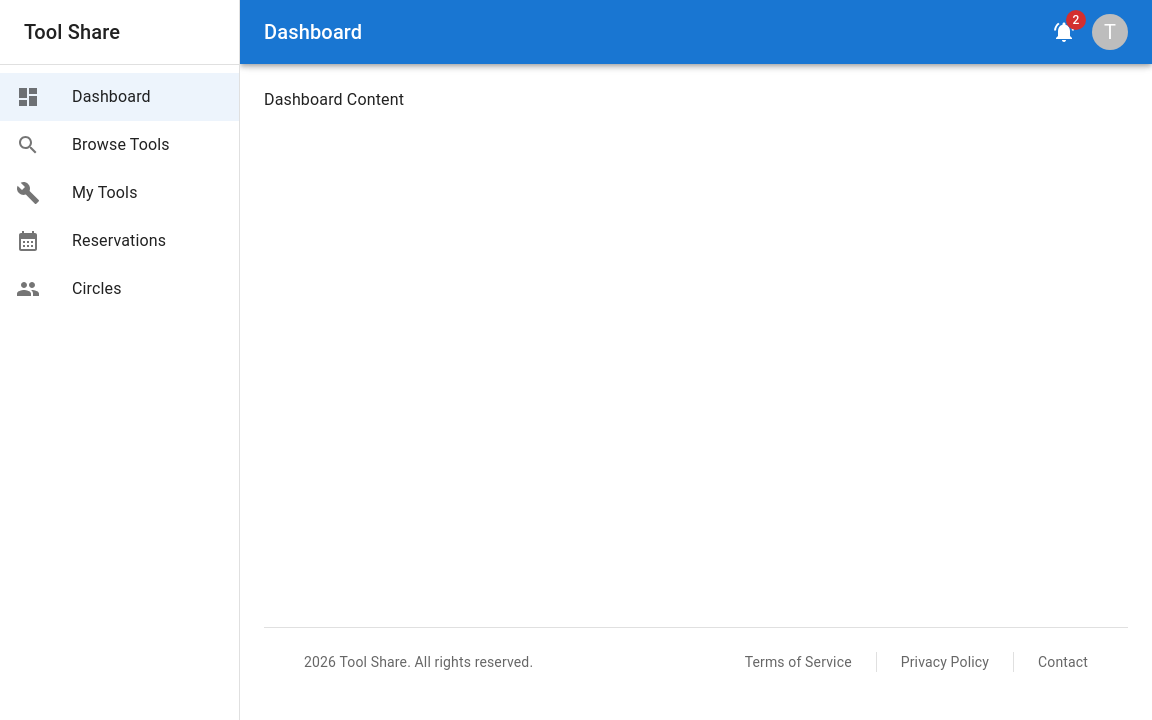
Test: Layout › routing › should navigate to browse when clicking navigation item
This screenshot has width=1152, height=720.
Step 1. Click the button "Browse Tools" → (93, 145), box [16,133,170,157]
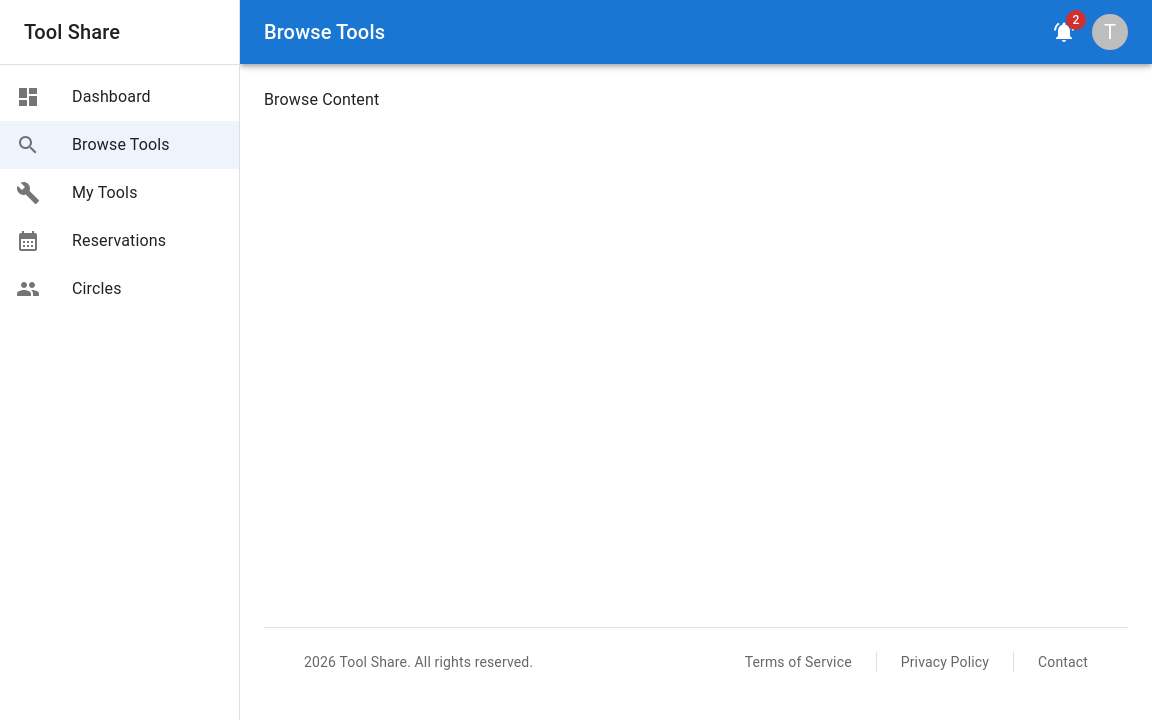
Now the text "Browse Content" is shown, box [264,90,379,109]
